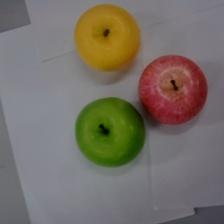green: (76, 97, 146, 167)
red: (138, 55, 208, 124)
yellow: (72, 2, 142, 75)
